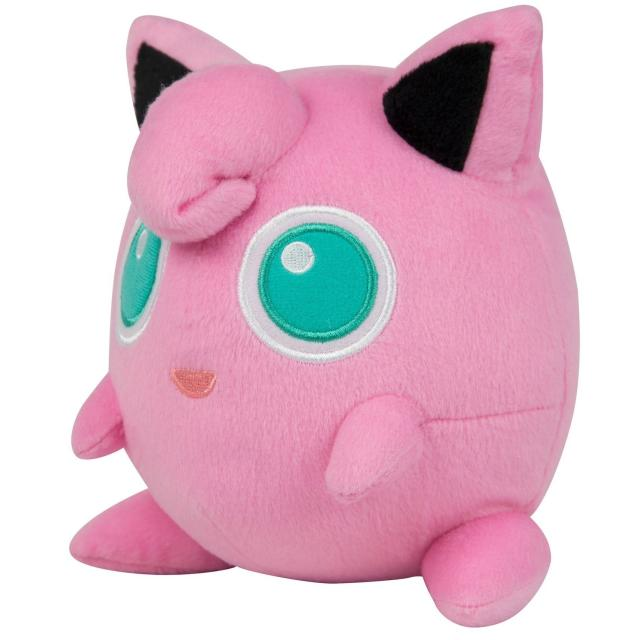Jigglypuff: (54, 19, 596, 632)
